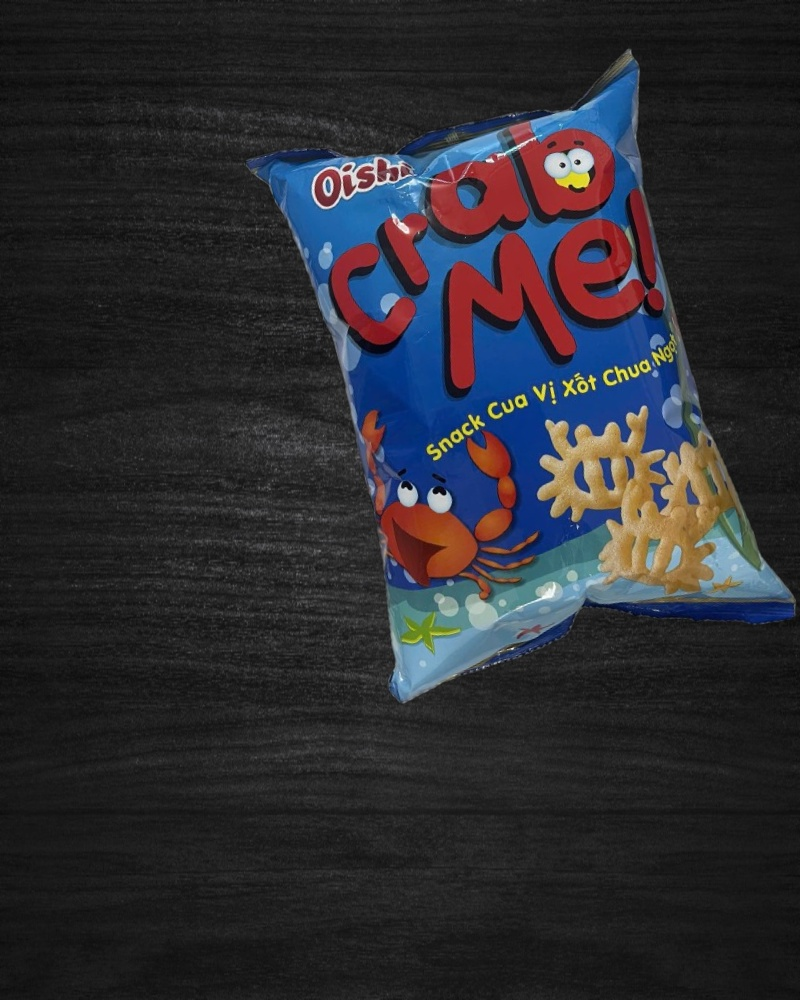Snack chay: (243, 44, 800, 726)
